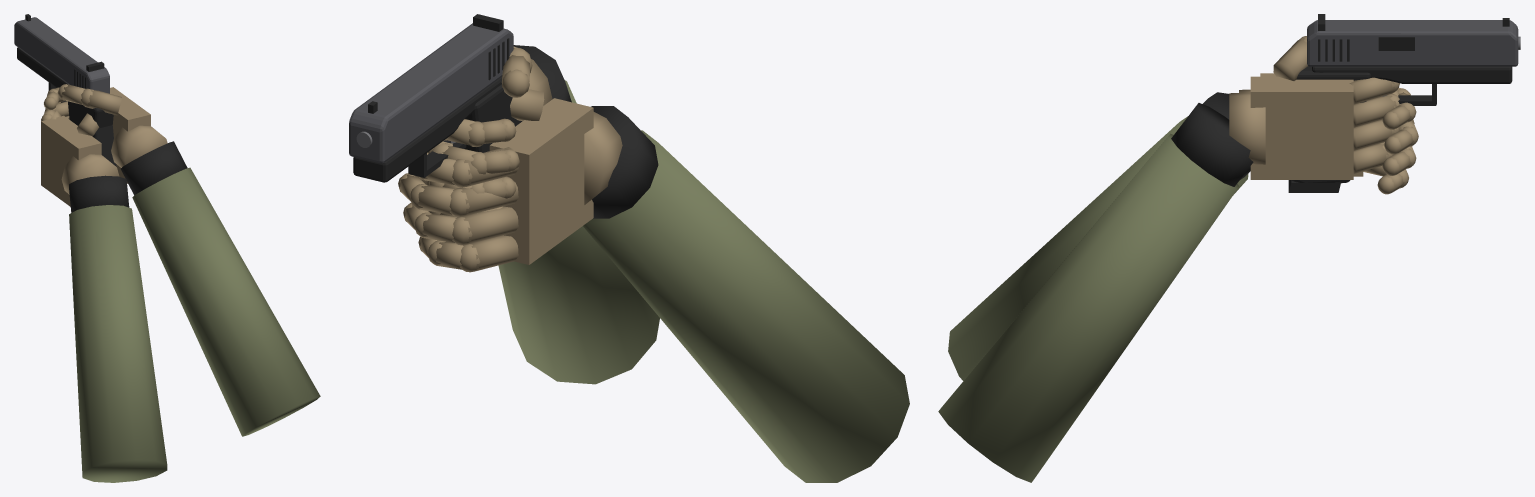
File: pistol.glb
3 renders of one model, left to right at view 1: azimuth 30°, elevation 25°; view 2: azimuth 150°, elevation 25°; view 3: azimuth 270°, elevation 25°, orthographic. The views are drawn at different scales.
Parts seen in each view (by area): view 1: Pistol_HandRight, Pistol_HandLeft, Pistol_Slide, Pistol_Body; view 2: Pistol_HandLeft, Pistol_HandRight, Pistol_Slide, Pistol_Body; view 3: Pistol_HandRight, Pistol_HandLeft, Pistol_Slide, Pistol_Body.
Part boxes in pixels (x1,y1,x2,y2): Pistol_HandRight: (41, 84, 320, 436); Pistol_HandLeft: (41, 102, 167, 482); Pistol_Slide: (14, 14, 109, 93); Pistol_Body: (17, 47, 116, 166); Pistol_HandLeft: (398, 89, 909, 482); Pistol_HandRight: (417, 45, 659, 384); Pistol_Slide: (349, 14, 513, 163); Pistol_Body: (353, 77, 522, 182); Pistol_HandRight: (938, 36, 1399, 482); Pistol_HandLeft: (948, 73, 1418, 380); Pistol_Slide: (1307, 14, 1518, 66); Pistol_Body: (1291, 36, 1520, 183).
Bounding box in the file's own units: 0.2972 × 0.4046 × 0.4796.
